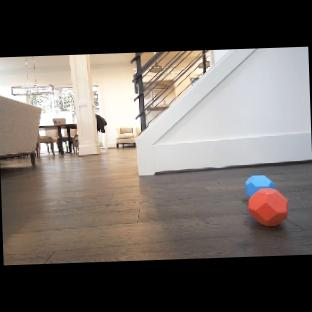V5_BLUE: (245, 174, 275, 191)
V5_RED: (248, 188, 289, 228)
